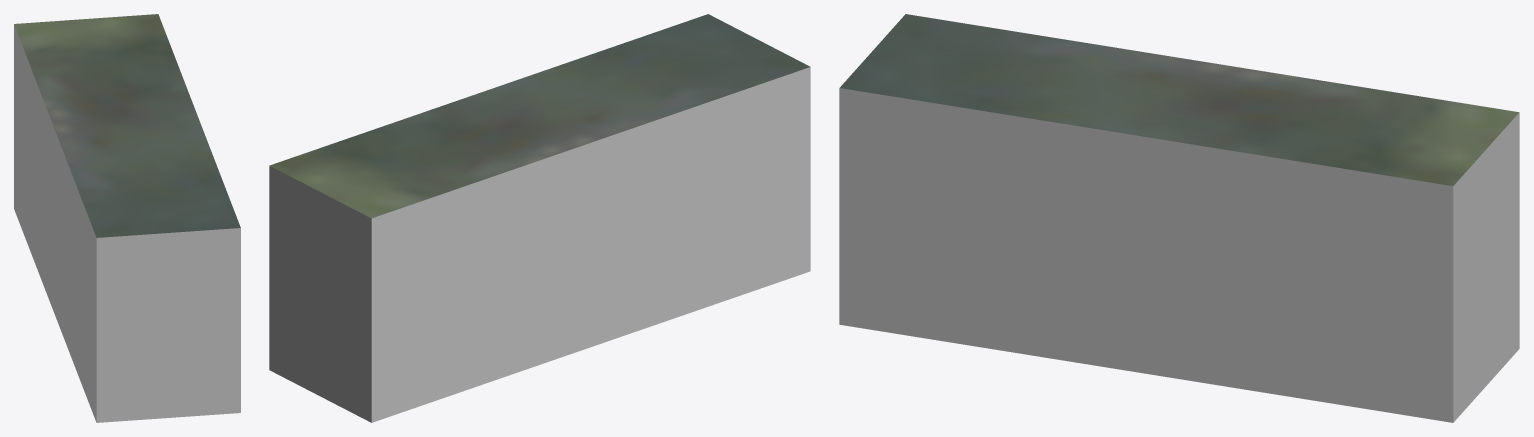
The model's file is DEBW_0010007TxfS.gltf.
3 views of the same model, side by side, from view 1: azimuth 30°, elevation 25°; view 2: azimuth 150°, elevation 25°; view 3: azimuth 270°, elevation 25° (orthographic). The views are drawn at different scales.
Parts seen in each view (by area): view 1: Z_UP; view 2: Z_UP; view 3: Z_UP.
Part boxes in pixels (x1,y1,x2,y2): Z_UP: (14,14,240,422); Z_UP: (269,14,810,422); Z_UP: (839,14,1519,422).
Size of the model in its own units: 4.19 by 2.68 by 6.99.
Materials: 2 (1 with a texture image).
